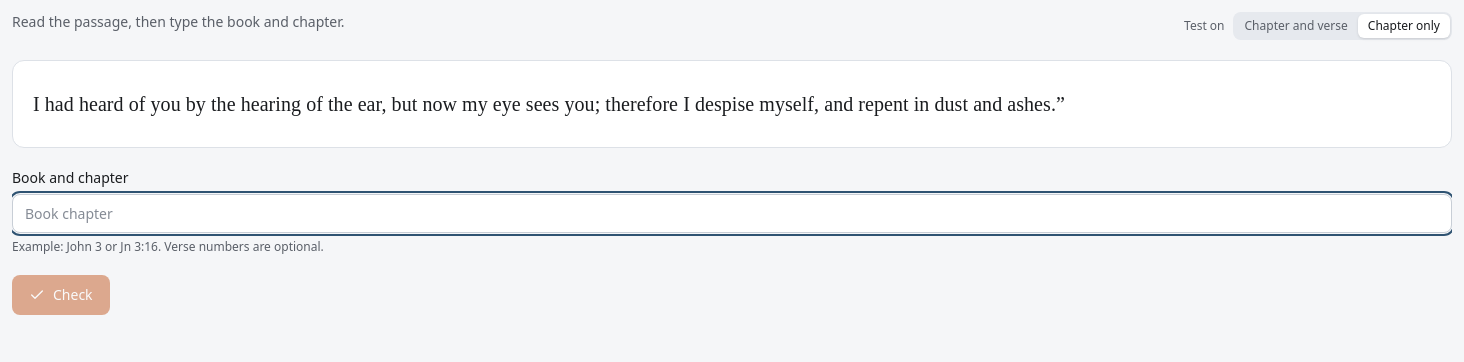
QuizReferenceMode › accepts book and chapter only when chapter grading is selected
Type "Job 42" into the field labelled "Book and chapter" at (732, 214), box left=12, top=194, right=1452, bottom=233
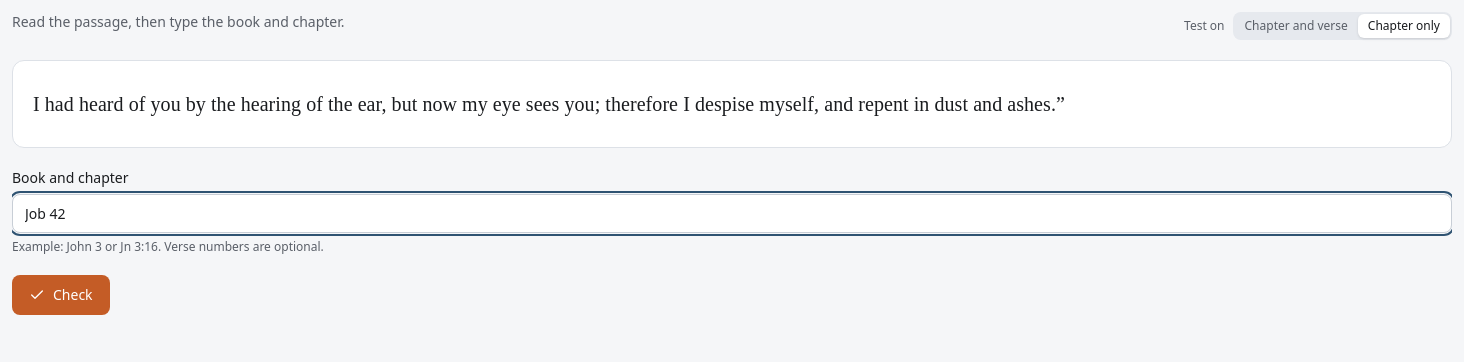
Click the button "Check" at (61, 295), box left=12, top=275, right=110, bottom=315
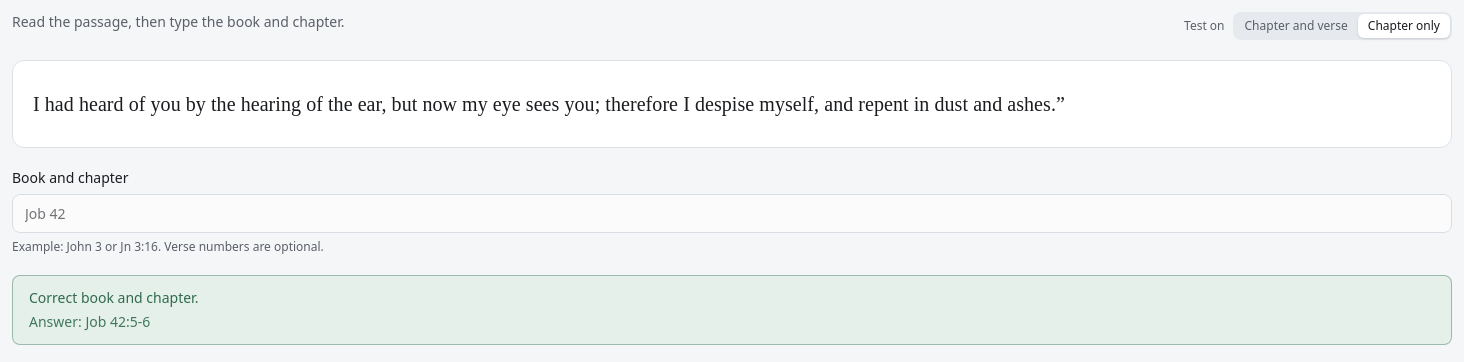
expect the message shows "Correct book and chapter": met, box left=29, top=288, right=198, bottom=307
